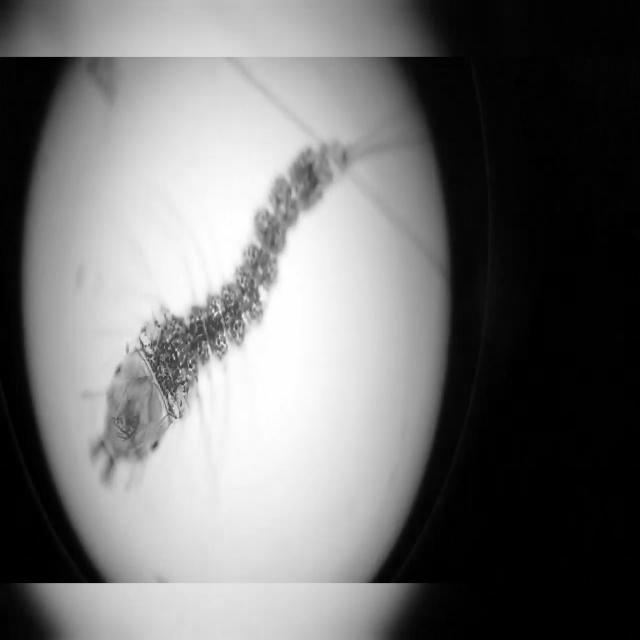larvas: (95, 148, 348, 468)
